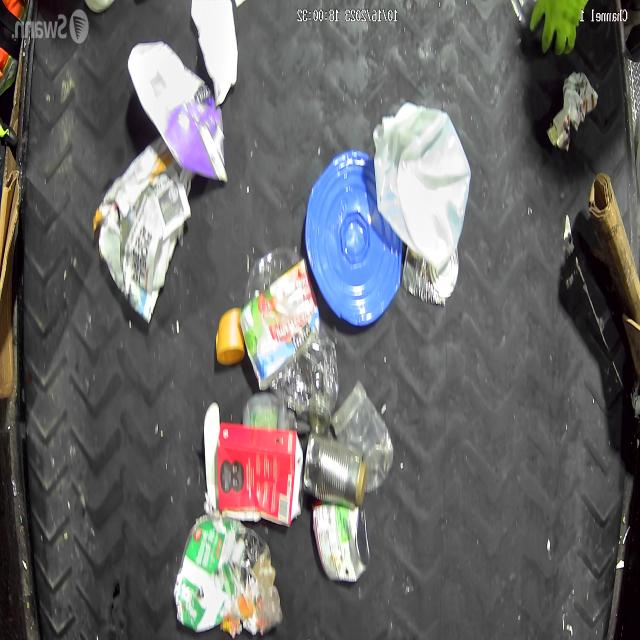can: (302, 435, 363, 508), (312, 506, 369, 584), (401, 243, 459, 306)
milk_jug: (372, 101, 472, 271)
non_white_jug: (128, 40, 228, 185), (203, 401, 303, 528)
plastic_bottle: (240, 246, 339, 436)
